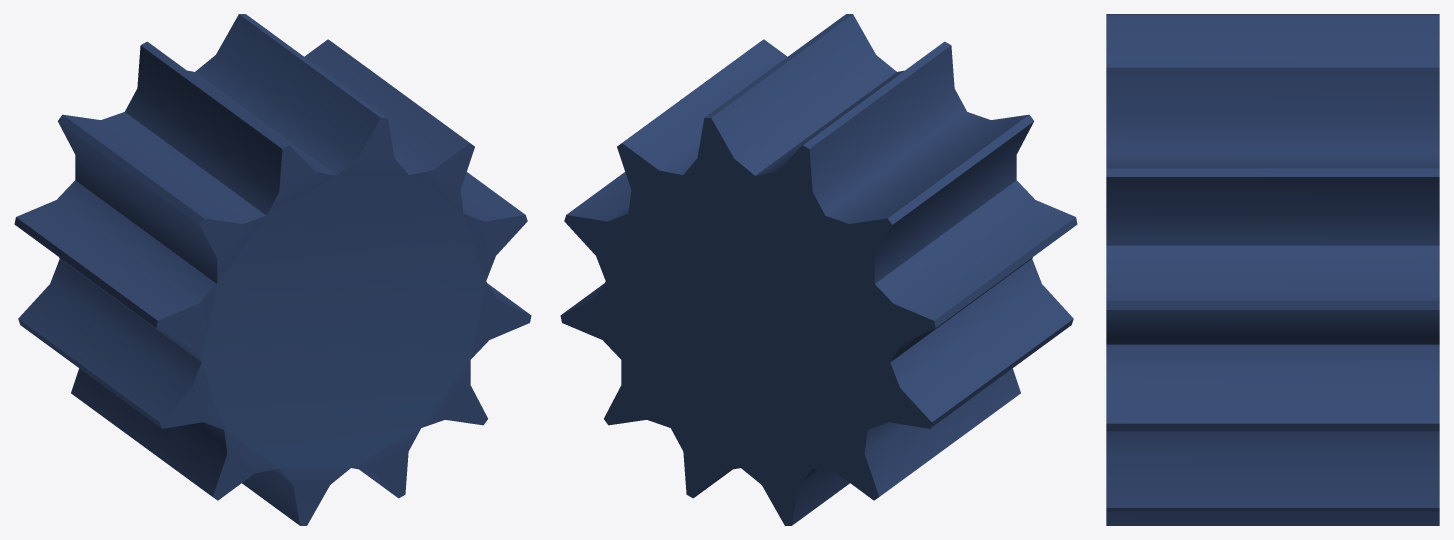
Rendered from SquggleWheel2_collider.fbx.
3 views of the same model, side by side, from view 1: azimuth 30°, elevation 25°; view 2: azimuth 150°, elevation 25°; view 3: azimuth 270°, elevation 25° (orthographic). The views are drawn at different scales.
Visible parts, largest first — view 1: Wheel2; view 2: Wheel2; view 3: Wheel2.
Part boxes in pixels (<box>): Wheel2: <box>14,14,531,525</box>; Wheel2: <box>560,14,1077,525</box>; Wheel2: <box>1106,14,1439,525</box>.
Size of the model in its own units: 9.29 by 9.23 by 6.09.
